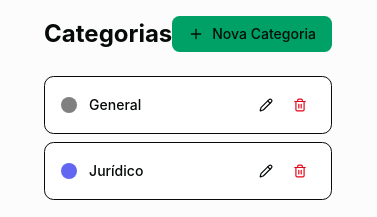
CategoriesPage › dismisses delete confirm when X is clicked
Click the button with class "lucide-trash-2" at (300, 105), box [285,89,315,121]
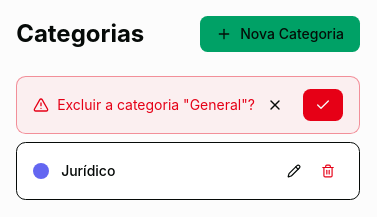
Expected: the text "Excluir a categoria \"General\"?" is shown, [57,95,255,115]
Click the button with class "lucide-x" at (275, 105), box [255,89,295,121]
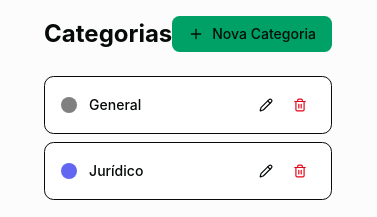
Expected: the text "Excluir a categoria" is gone
